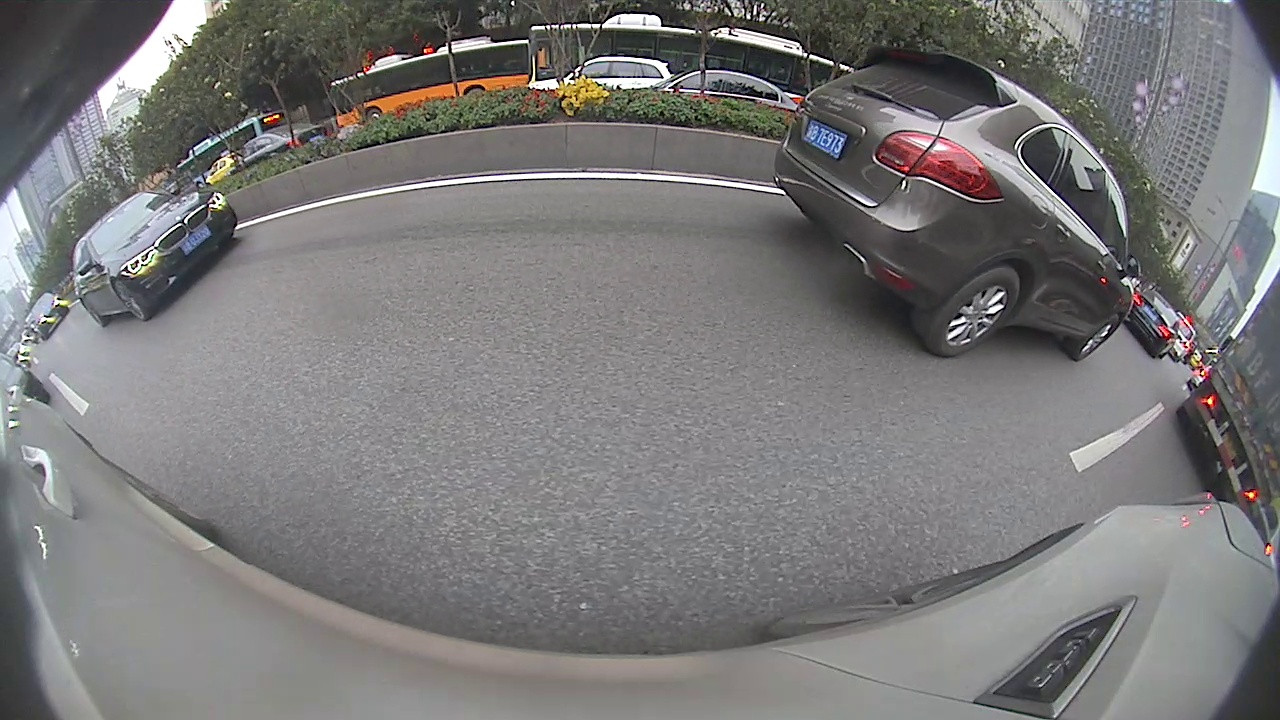car: (131, 149, 479, 356), (718, 113, 1043, 291), (510, 156, 579, 199), (637, 150, 675, 185)
front: (451, 194, 478, 236), (719, 180, 739, 219)
rear: (275, 241, 343, 322), (803, 196, 852, 273)
